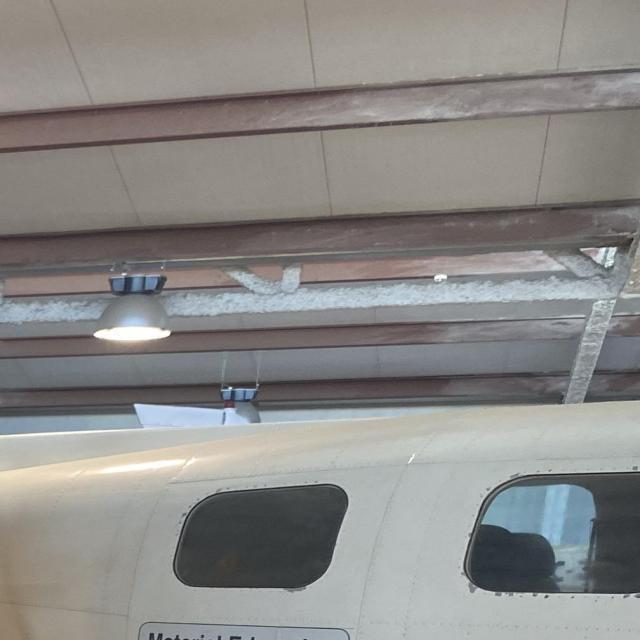Paint-off: (464, 580, 479, 594), (283, 585, 308, 593), (493, 591, 517, 598), (631, 464, 640, 471)
